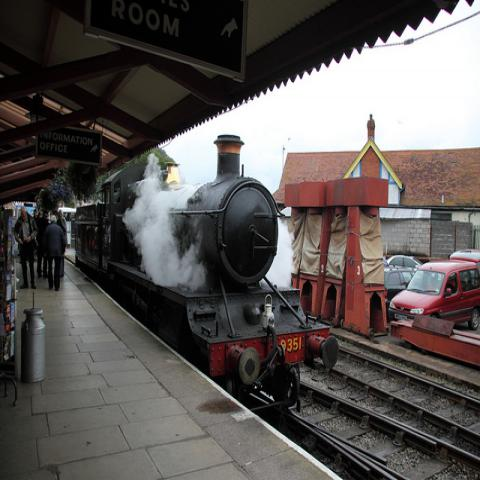car: (388, 256, 479, 330), (447, 247, 479, 298), (383, 267, 414, 309), (386, 254, 429, 268)
